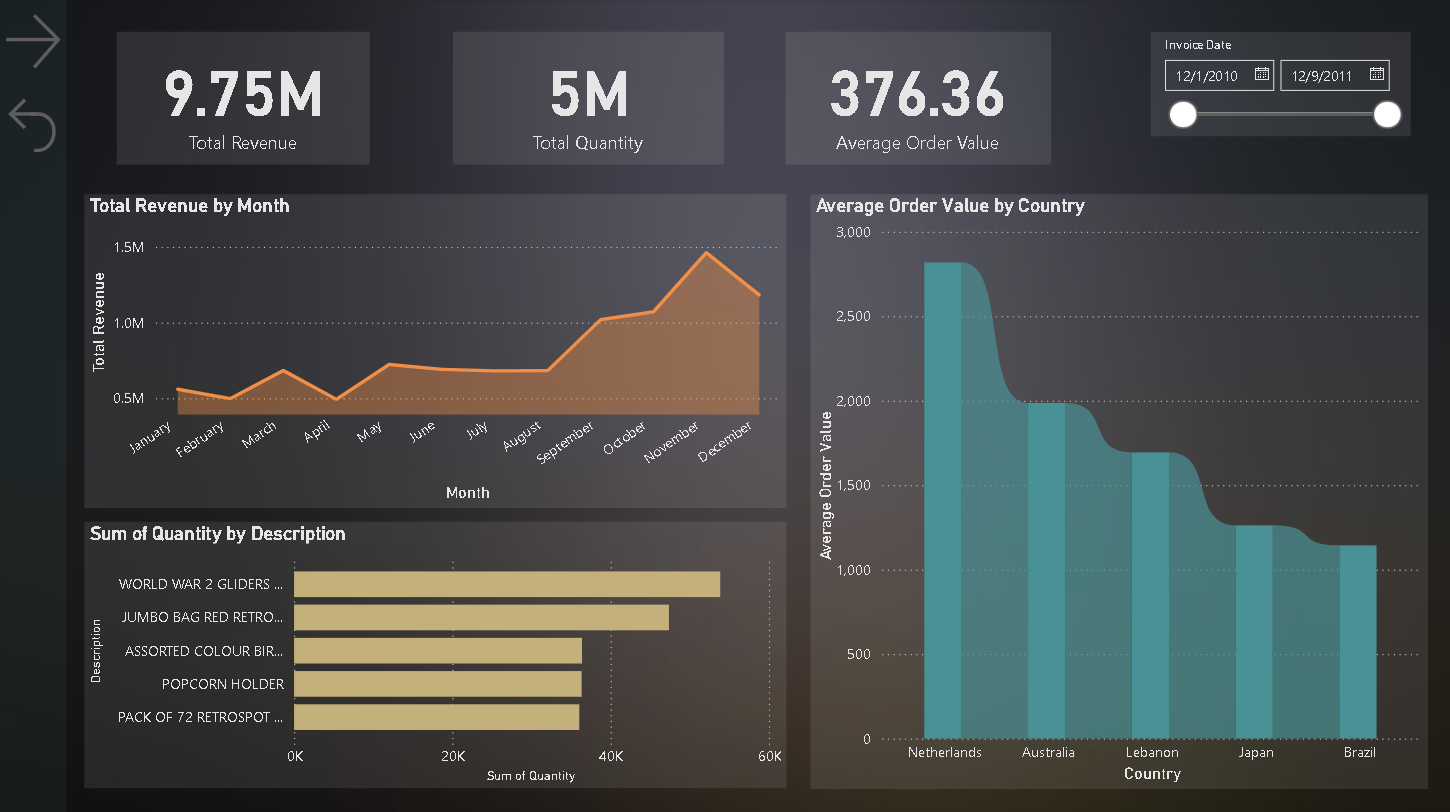

What the dashboard file says about the page in this screenshot:
{"tool":"powerbi","page":{"name":"Sales & Profit Overview","canvas":[1280,720],"ordinal":0},"visuals":[{"type":"group","id":"g1","title":"Group 2","box":[0,0,60.4,720.4],"z":0,"group":"g2"},{"type":"shape","box":[0,0,60.4,720.4],"z":0,"group":"g1"},{"type":"card","fields":{"Values":["data-2.Total Revenue"]},"box":[104.3,30.2,222.3,116.6],"z":0},{"type":"card","fields":{"Values":["data-2.Total Quantity"]},"box":[400.7,30.2,238.8,116.6],"z":1000},{"type":"actionButton","box":[0,76.8,60.4,70],"z":1000,"group":"g1"},{"type":"actionButton","box":[0,0,60.4,76.8],"z":2000,"group":"g1"},{"type":"card","fields":{"Values":["data-2.Average Order Value"]},"box":[693,30.2,233.3,116.6],"z":2000},{"type":"areaChart","fields":{"Category":["data-2.InvoiceDate.Variation.Date Hierarchy.Month"],"Y":["data-2.Total Revenue"]},"box":[75.5,172.9,617.5,275.8],"z":3000},{"type":"barChart","fields":{"Category":["data-2.Description"],"Y":["Sum(data-2.Quantity)"]},"box":[75.5,461.1,617.5,234.6],"z":4000},{"type":"ribbonChart","fields":{"Category":["data-2.Country"],"Y":["data-2.Average Order Value"]},"box":[714.9,172.9,543.4,522.8],"z":5000},{"type":"slicer","fields":{"Values":["data-2.InvoiceDate"]},"box":[1014.1,30.2,229.2,91.9],"z":6000},{"type":"group","id":"g2","title":"Group 1","box":[0,0,60.4,720.4],"z":7000}]}

Visuals, with their boxes in screenshot pixels (x1, y1, x2, y2), scaled from the page's 1280x720 canvas onto the 1450x812 screenshot:
"Group 2" group: x1=0 y1=0 x2=68 y2=811
shape: x1=0 y1=0 x2=68 y2=811
card - data-2.Total Revenue: x1=118 y1=34 x2=370 y2=166
card - data-2.Total Quantity: x1=454 y1=34 x2=724 y2=166
actionButton: x1=0 y1=87 x2=68 y2=166
actionButton: x1=0 y1=0 x2=68 y2=87
card - data-2.Average Order Value: x1=785 y1=34 x2=1049 y2=166
areaChart - data-2.InvoiceDate.Variation.Date Hierarchy.Month x data-2.Total Revenue: x1=86 y1=195 x2=785 y2=506
barChart - data-2.Description x Sum(data-2.Quantity): x1=86 y1=520 x2=785 y2=785
ribbonChart - data-2.Country x data-2.Average Order Value: x1=810 y1=195 x2=1425 y2=785
slicer - data-2.InvoiceDate: x1=1149 y1=34 x2=1408 y2=138
"Group 1" group: x1=0 y1=0 x2=68 y2=811
